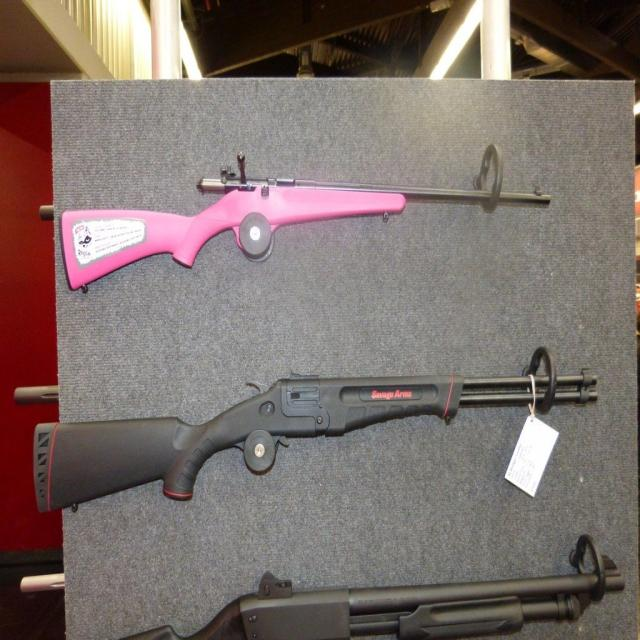firearm: (35, 369, 599, 513), (60, 172, 553, 294), (126, 568, 626, 640)
